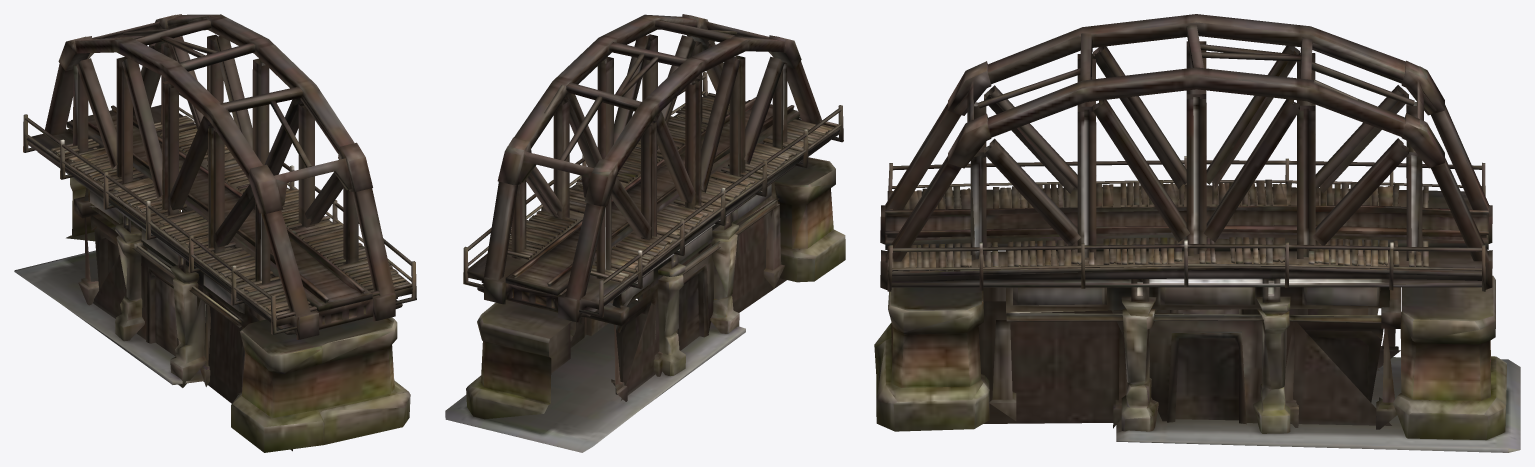
The model's file is lm_long_bien.glb.
The picture shows the model from 3 angles, left to right: view 1: azimuth 30°, elevation 25°; view 2: azimuth 150°, elevation 25°; view 3: azimuth 270°, elevation 25°; orthographic projection. The views are drawn at different scales.
Visible parts, largest first — view 1: Body; view 2: Body; view 3: Body.
Boxes of the visible parts, x1,y1,x2,y2 form: Body: [14, 14, 416, 452]; Body: [445, 14, 845, 452]; Body: [874, 14, 1520, 452].
Size of the model in its own units: 9.32 by 16.83 by 27.32.
1 material, 1 textured.
